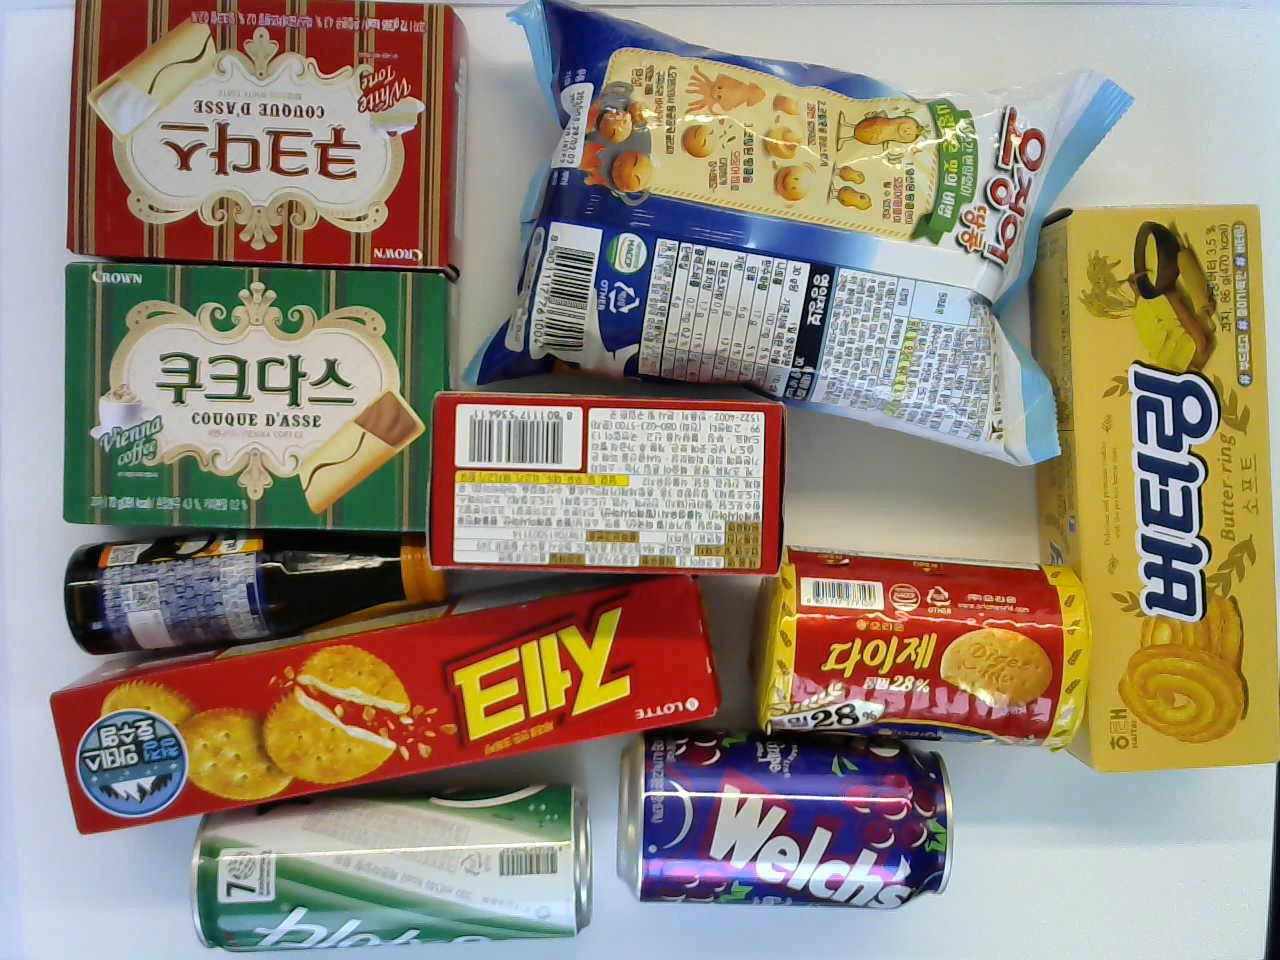buttering: (1058, 199, 1276, 772)
chocopie: (425, 394, 787, 575)
cidar: (190, 782, 587, 951)
couque_coffee: (58, 274, 462, 524)
couque_white: (69, 0, 457, 278)
diget_ori: (757, 546, 1096, 747)
squid_peanut: (454, 8, 1160, 465)
vita500: (52, 526, 450, 651)
welchs: (624, 735, 951, 911)
zec: (34, 579, 717, 825)
